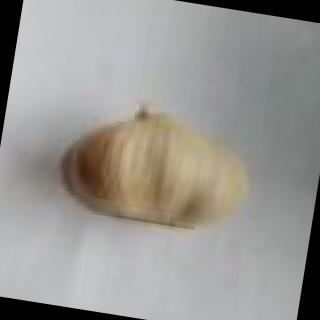Bawang Putih: (35, 71, 283, 277)
